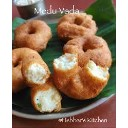vada: (62, 36, 114, 67), (16, 20, 51, 51), (59, 12, 99, 36)
